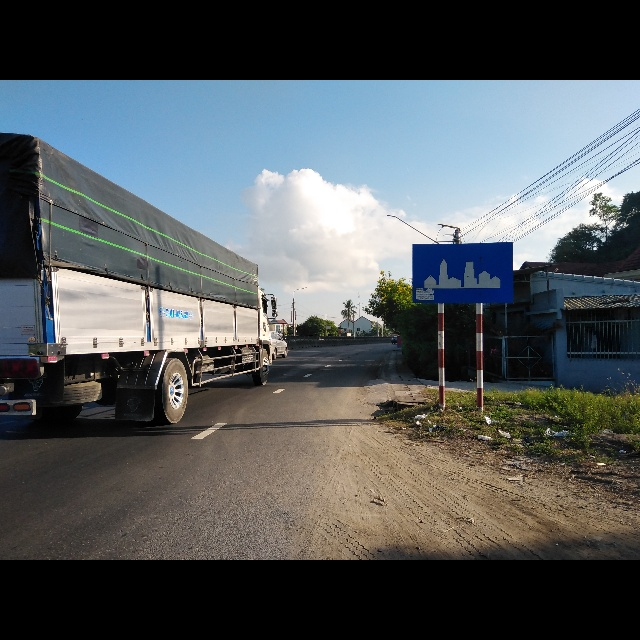Khu đông dân cư: (411, 241, 515, 303)
